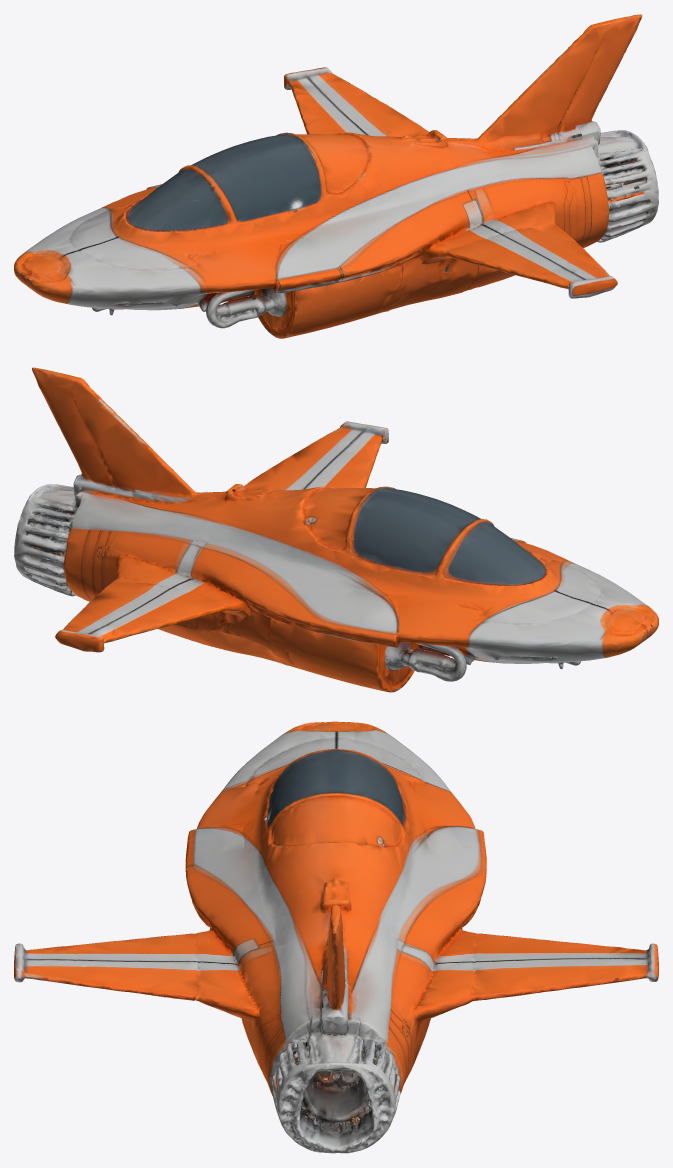
Rendered from orange_fighter_jet.lod2.glb.
The picture shows the model from 3 angles, top to bottom: view 1: azimuth 30°, elevation 25°; view 2: azimuth 150°, elevation 25°; view 3: azimuth 270°, elevation 25°; orthographic projection. The views are drawn at different scales.
Size of the model in its own units: 1.91 by 0.6527 by 1.56.
Materials: 1 (1 with a texture image).
